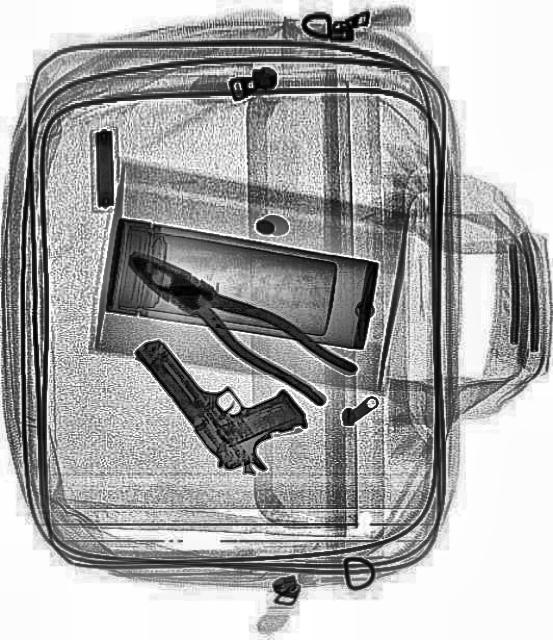Gun: (132, 288, 314, 490)
Pliers: (117, 226, 357, 416)
